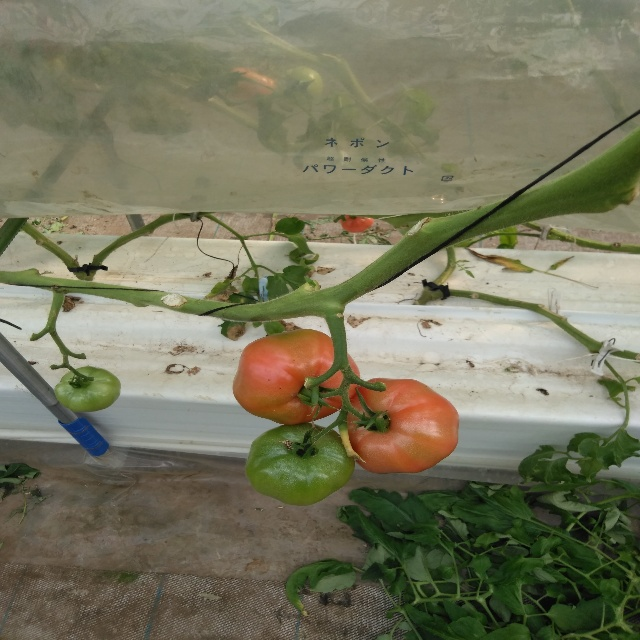b_green: (244, 423, 355, 507), (54, 366, 121, 412)
b_half_ripened: (232, 328, 362, 425), (341, 377, 459, 474), (340, 214, 374, 233)
